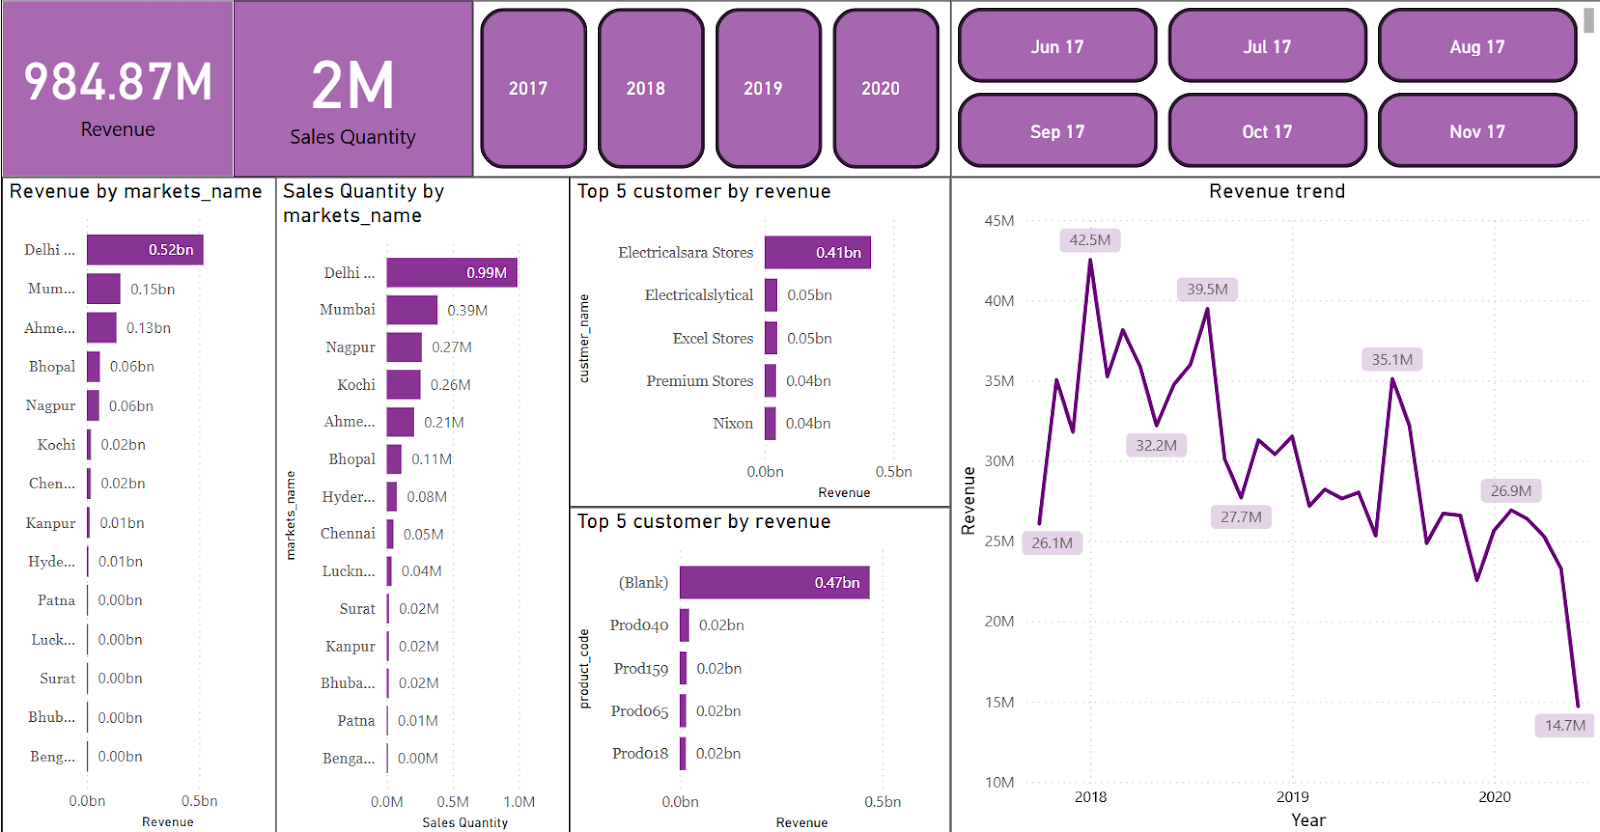

The dashboard page shown, as its layout file describes it:
{"tool":"powerbi","page":{"name":"Page 1","canvas":[1280,720],"ordinal":0},"visuals":[{"type":"card","fields":{"Values":["Basemeasures.Revenue"]},"box":[8.1,49.8,177.3,141.4],"z":0},{"type":"card","fields":{"Values":["Basemeasures.Sales Quantity"]},"box":[185.4,49.8,191.2,141.4],"z":1000},{"type":"barChart","fields":{"Y":["Basemeasures.Revenue"],"Category":["sales markets.markets_name"]},"box":[0,214.4,219,505.2],"z":2000},{"type":"barChart","fields":{"Category":["sales markets.markets_name"],"Y":["Basemeasures.Sales Quantity"]},"box":[219,214.4,235.2,505.2],"z":3000},{"type":"advancedSlicerVisual","title":"Year","fields":{"Values":["sales date.year"]},"box":[376.6,49.8,382.4,141.4],"z":4000},{"type":"advancedSlicerVisual","title":"Cy_date","fields":{"Values":["sales date.cy_date"]},"box":[759,49.8,521.4,141.4],"z":5000},{"type":"barChart","title":"Top 5 customer by revenue","fields":{"Y":["Basemeasures.Revenue"],"Category":["sales customers.custmer_name"]},"box":[454.2,214.4,304.7,252.6],"z":6000},{"type":"barChart","title":"Top 5 customer by revenue","fields":{"Y":["Basemeasures.Revenue"],"Category":["sales products.product_code"]},"box":[454.2,467,304.7,252.6],"z":7000},{"type":"lineChart","title":"Revenue trend","fields":{"Y":["Basemeasures.Revenue"],"Category":["sales date.cy_date.Variation.Date Hierarchy.Year","sales date.cy_date.Variation.Date Hierarchy.Quarter","sales date.cy_date.Variation.Date Hierarchy.Month","sales date.cy_date.Variation.Date Hierarchy.Day"]},"box":[759,214.4,521.4,505.2],"z":8000}]}

Visuals, with their boxes on the page's 1280x720 design canvas (x1, y1, x2, y2). These are canvas units, not pixel positions in the 1600x832 screenshot, which may show the page scaled, cropped or inside an application window:
card - Basemeasures.Revenue: detection(8, 50, 185, 191)
card - Basemeasures.Sales Quantity: detection(185, 50, 377, 191)
barChart - Basemeasures.Revenue x sales markets.markets_name: detection(0, 214, 219, 720)
barChart - sales markets.markets_name x Basemeasures.Sales Quantity: detection(219, 214, 454, 720)
"Year" advancedSlicerVisual: detection(377, 50, 759, 191)
"Cy_date" advancedSlicerVisual: detection(759, 50, 1280, 191)
"Top 5 customer by revenue" barChart: detection(454, 214, 759, 467)
"Top 5 customer by revenue" barChart: detection(454, 467, 759, 720)
"Revenue trend" lineChart: detection(759, 214, 1280, 720)
